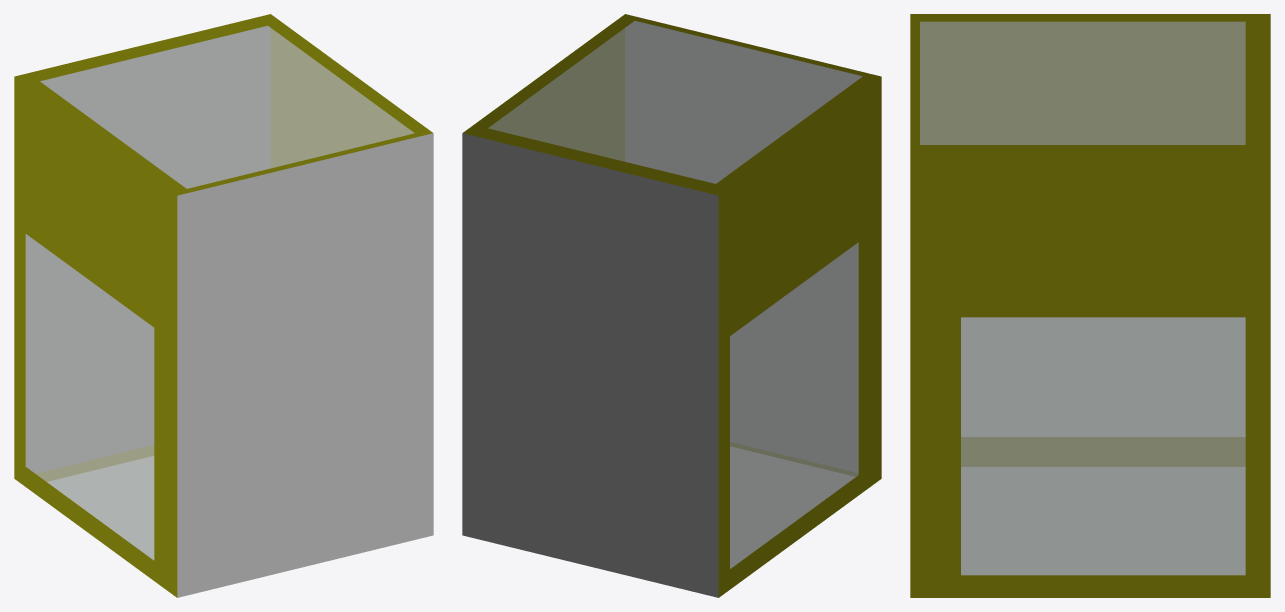
Rendered from idf.obj.
3 renders of one model, left to right at view 1: azimuth 30°, elevation 25°; view 2: azimuth 150°, elevation 25°; view 3: azimuth 270°, elevation 25°, orthographic. The views are drawn at different scales.
Size of the model in its own units: 3.05 by 4.57 by 3.35.
